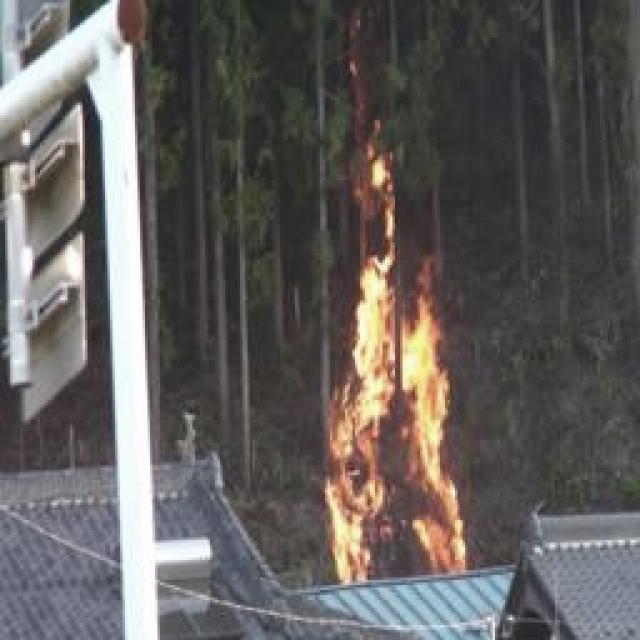Fire: (319, 261, 471, 591)
